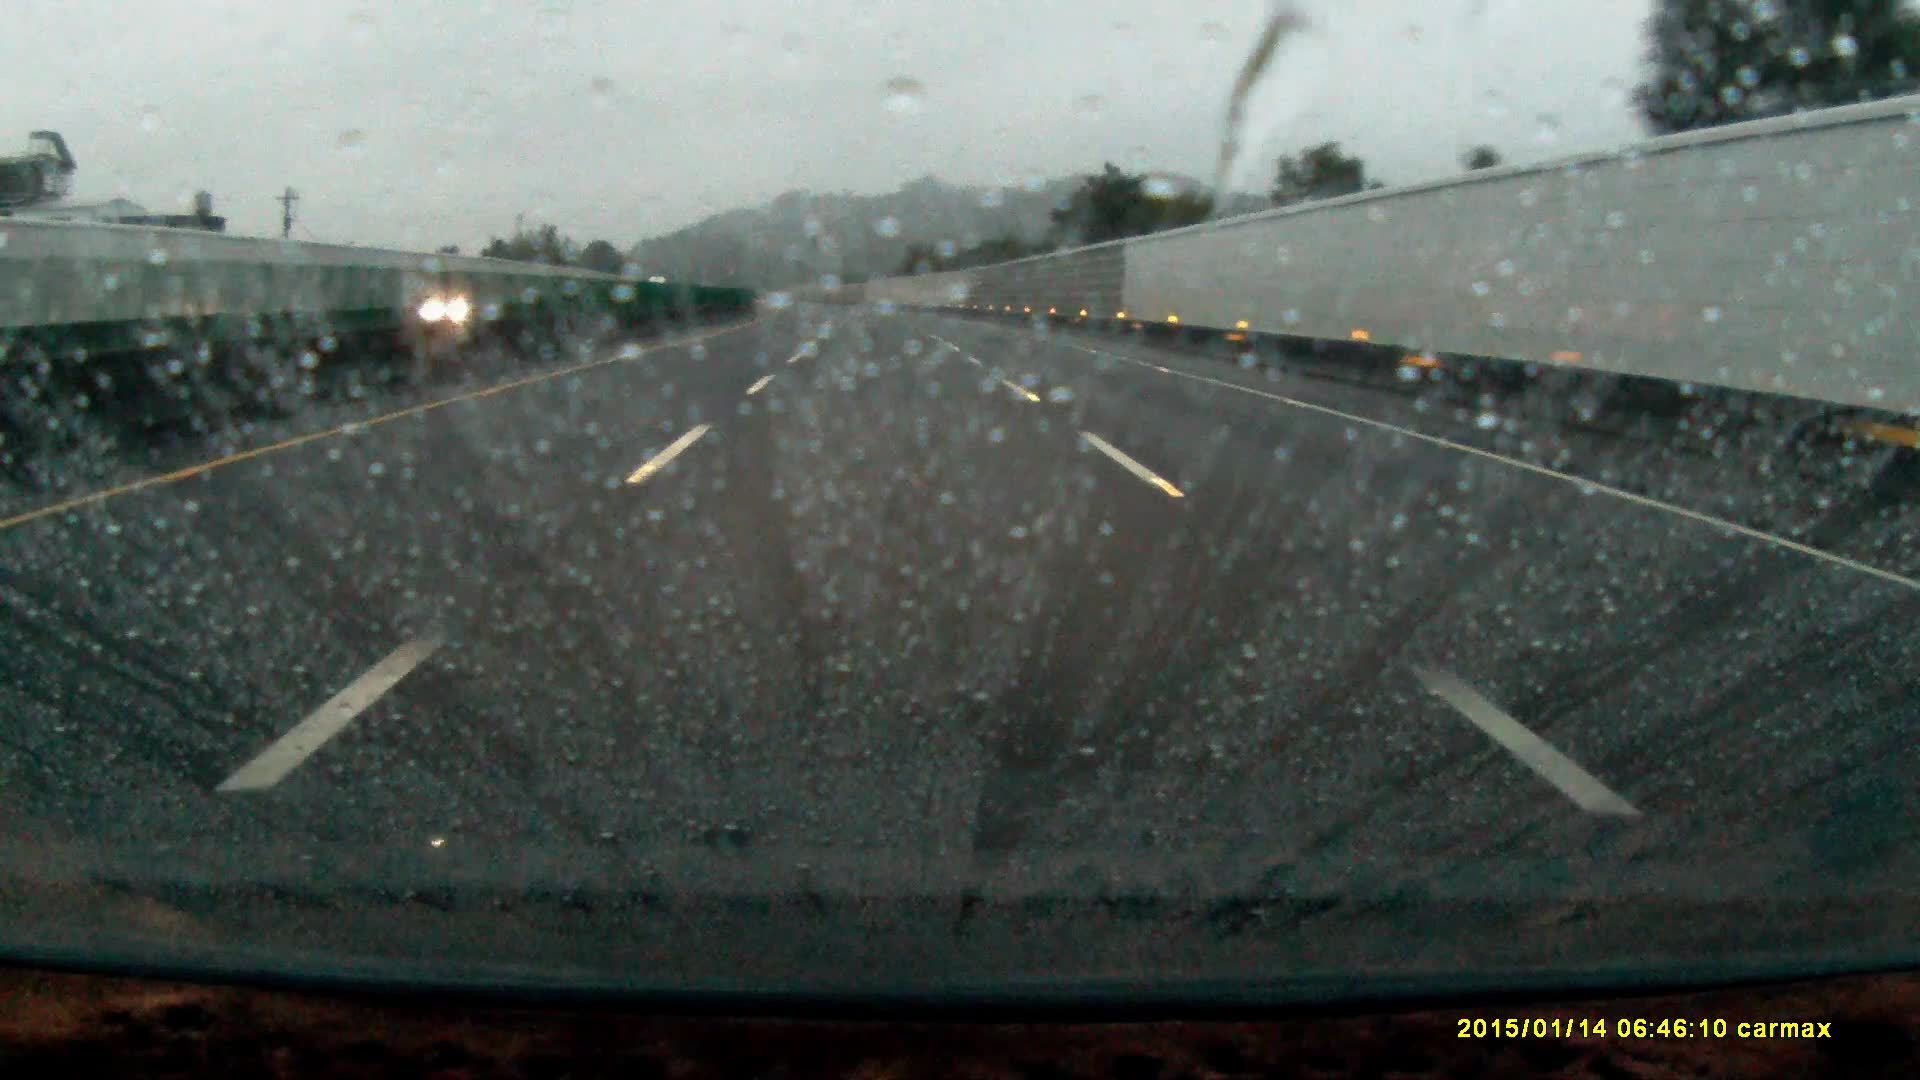vehicle: (429, 293, 487, 320)
